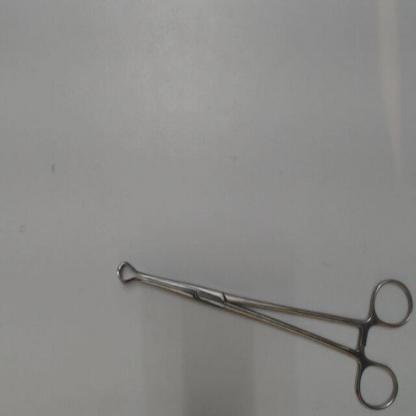8 Babcock Tissue Forceps: (113, 255, 415, 413)
